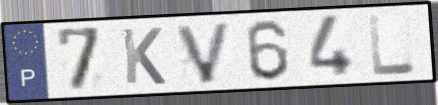4: (306, 13, 356, 82)
6: (244, 16, 292, 85)
7: (54, 26, 106, 94)
K: (119, 26, 169, 87)
L: (366, 11, 419, 78)
V: (172, 20, 235, 86)
